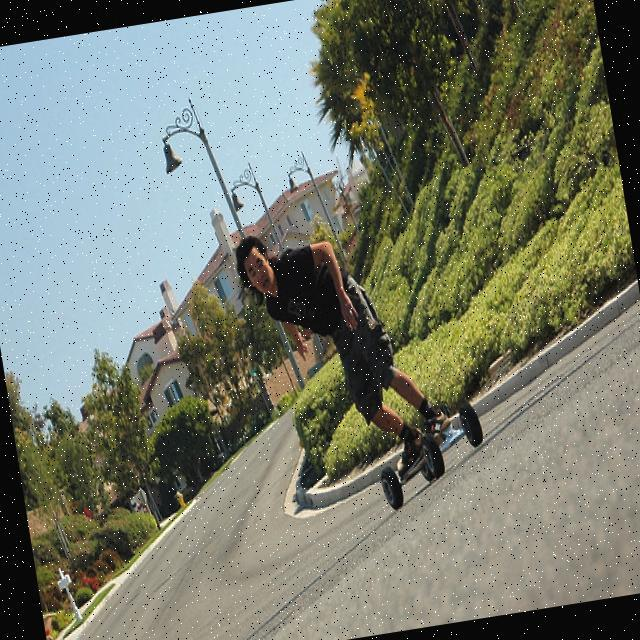fire_hydrant: (174, 488, 186, 509)
